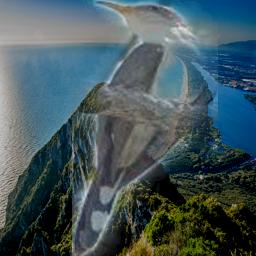Cuckoo: (72, 0, 218, 256)
